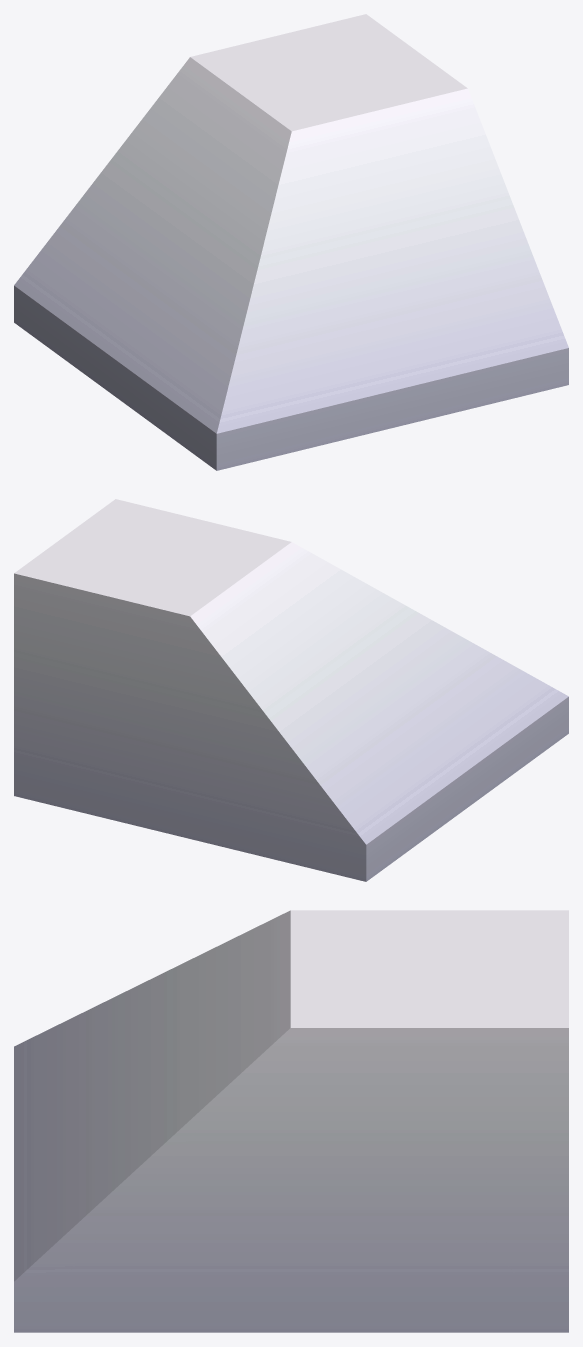
Rendered from none-lq-brick-slope-corner-outside-2x2.glb.
The picture shows the model from 3 angles, top to bottom: view 1: azimuth 30°, elevation 25°; view 2: azimuth 150°, elevation 25°; view 3: azimuth 270°, elevation 25°; orthographic projection. The views are drawn at different scales.
Visible parts, largest first — view 1: none-lq-brick-slope-corner-outside-2x2; view 2: none-lq-brick-slope-corner-outside-2x2; view 3: none-lq-brick-slope-corner-outside-2x2.
Boxes of the visible parts, left/top/right/bottom form: none-lq-brick-slope-corner-outside-2x2: left=14, top=14, right=568, bottom=470; none-lq-brick-slope-corner-outside-2x2: left=14, top=499, right=568, bottom=881; none-lq-brick-slope-corner-outside-2x2: left=14, top=910, right=568, bottom=1332.
Size of the model in its own units: 0.159 by 0.096 by 0.1585.
Materials: 1 (1 with a texture image).
